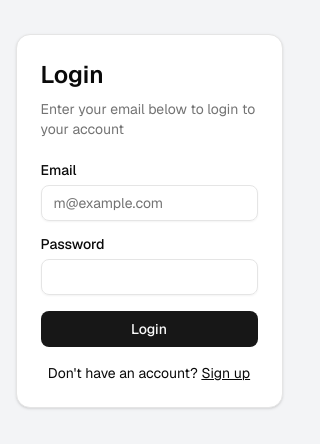
Test case: Login Page (Use Case 1) › should show "Login failed" error for invalid email format (TS-2.4)
# Test Steps
In the field labelled "Email": (149, 203) [40,185,258,221], type "bad-email"
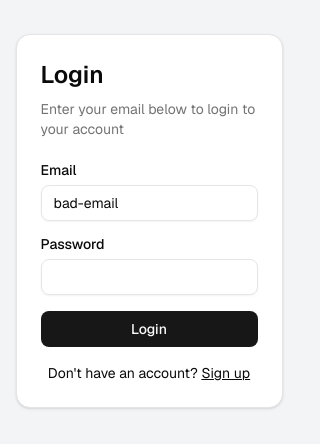
In the password field labelled "Password": (149, 277) [40,259,258,295], type "password123"
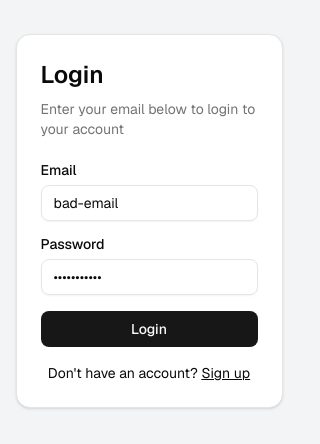
# Test Step: Submit the form directly
Submit the form "Email Password Login", box [40,163,258,347]
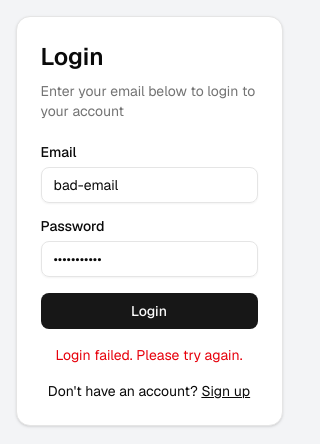
Expected: the text "Login failed. Please try again." is shown, [40,345,258,365]
